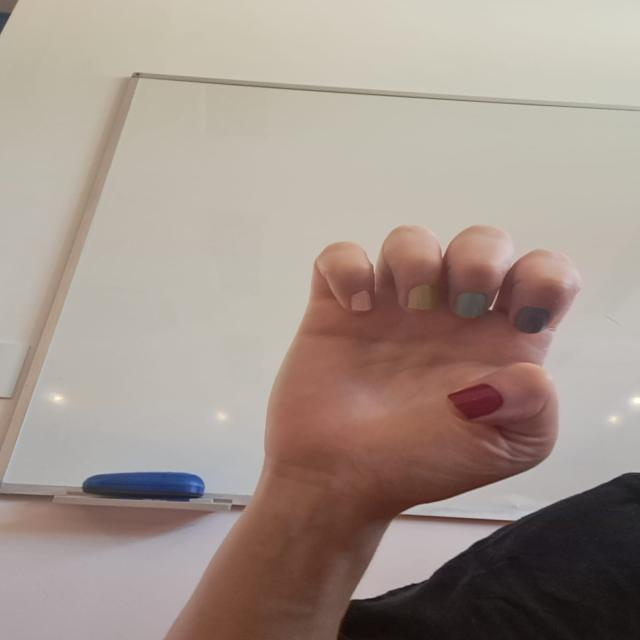E: (259, 208, 592, 506)
